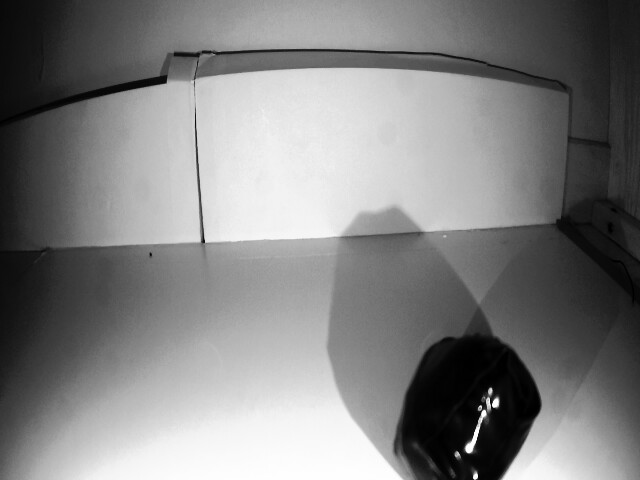black: (389, 327, 546, 480)
